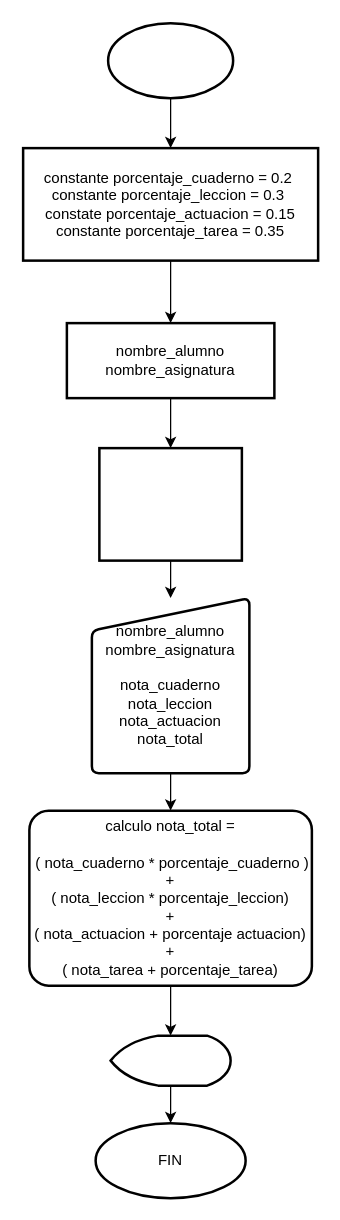
Image size: 340x1220. Some labels were removed from this diagram. Here are the shapes that lost their labels. From the top down, the centre of each, then its label:
At point (170, 60): "INICIO".
At point (170, 503): "nota_cuaderno nota_leccion nota_actuacion nota_total".
At point (170, 1060): "nota_total".
